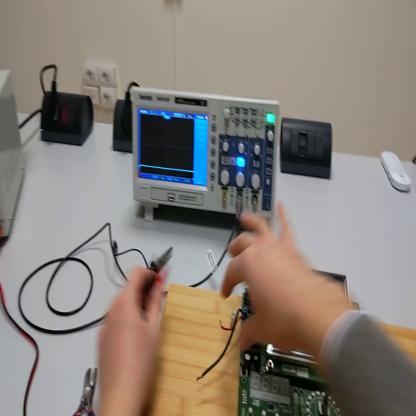hand: (221, 202, 322, 358), (96, 265, 167, 415)
low voltage board: (195, 264, 361, 416)
oscilloscope: (134, 84, 281, 231)
oscilloscope probe tip: (152, 247, 176, 274)
pliers: (75, 365, 98, 413)
power supply: (3, 70, 27, 241)
socket: (42, 92, 96, 148), (115, 98, 133, 152)
working area: (146, 285, 415, 412)
